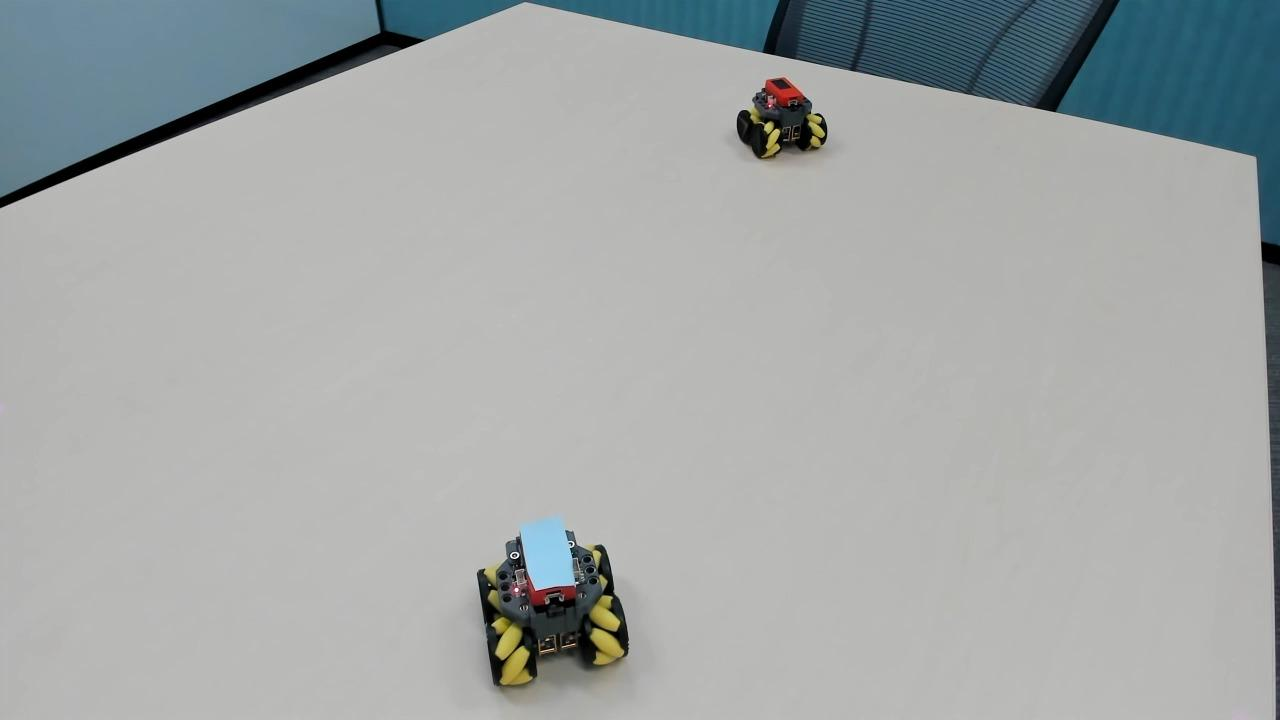B-Robot: (468, 511, 644, 699)
R-Robot: (725, 65, 830, 174)
